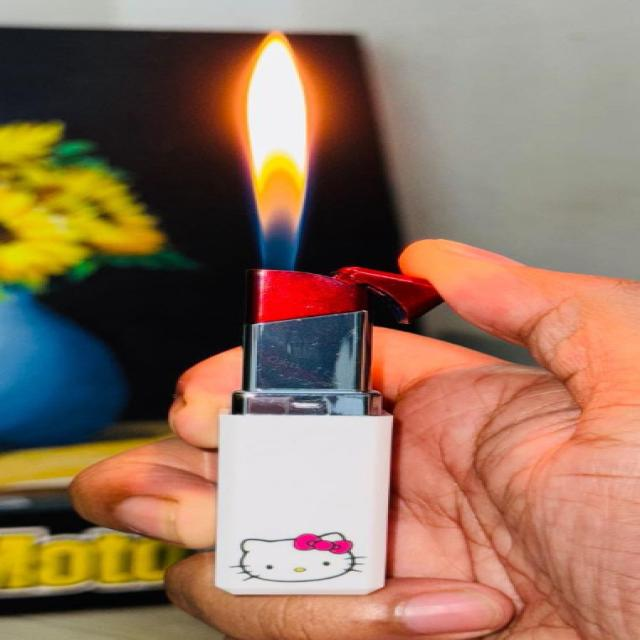fire: (247, 31, 307, 271)
